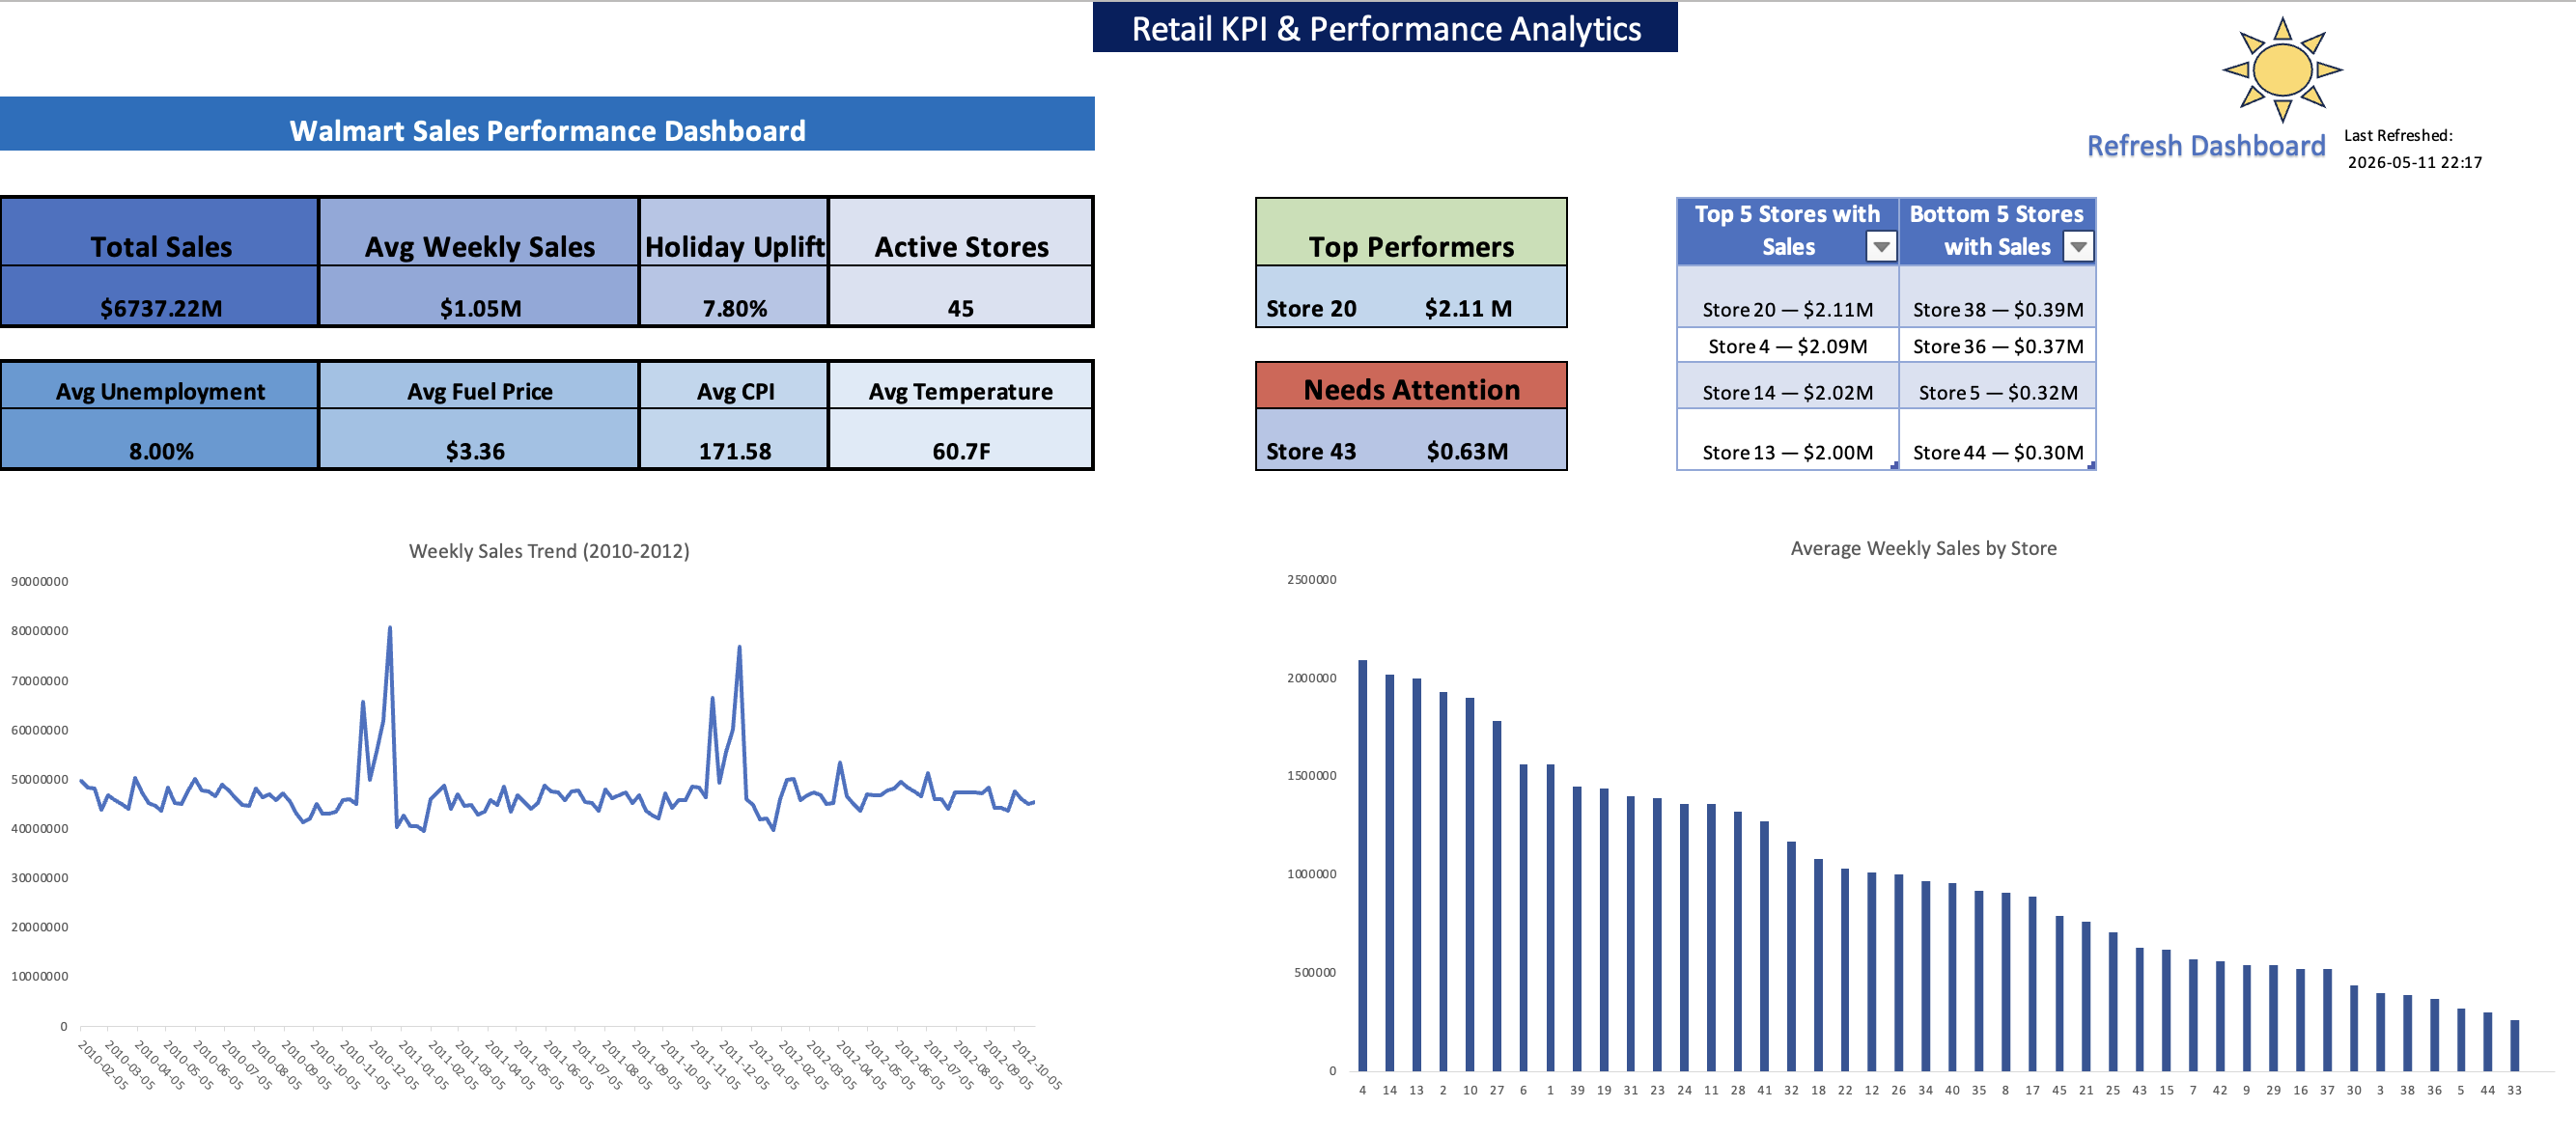

Layout of this report page (visuals, bound fields, positions):
{"tool":"tableau","page":{"name":"Dashboard 1","canvas":[1400,900],"ordinal":0},"visuals":[{"type":"text","box":[8,8,1384,80]},{"type":"worksheet","title":"KPI - Holiday Uplift ","mark":"Automatic","box":[1019,90,181,133]},{"type":"worksheet","title":"KPI - Active Stores","mark":"Automatic","box":[695,91,209,122]},{"type":"worksheet","title":"KPI - Average Weekly Sales","mark":"Automatic","box":[362,92,208,84]},{"type":"worksheet","title":"KPI - Total Sales","mark":"Automatic","box":[71,93,268,195]},{"type":"worksheet","title":"Average Weekly Sales by Store","mark":"Automatic","rows":["Weekly_Sales"],"cols":["Store"],"box":[715,196,636,554]},{"type":"worksheet","title":"Weekly Sales Trend","mark":"Automatic","rows":["Weekly_Sales"],"cols":["Date"],"box":[43,200,634,551]},{"type":"filter","title":"Weekly Sales Trend","param":"[federated.1utxvs30oo866m10m0n9e1h6uge1].[yr:Date:ok]","box":[502,739,194,52]},{"type":"text","box":[63,765,227,52]}]}

Visuals, with their boxes on the page's 1400x900 design canvas (x1, y1, x2, y2). These are canvas units, not pixel positions in the 2576x1135 screenshot, which may show the page scaled, cropped or inside an application window:
text: select_region(8, 8, 1392, 88)
"KPI - Holiday Uplift " worksheet: select_region(1019, 90, 1200, 223)
"KPI - Active Stores" worksheet: select_region(695, 91, 904, 213)
"KPI - Average Weekly Sales" worksheet: select_region(362, 92, 570, 176)
"KPI - Total Sales" worksheet: select_region(71, 93, 339, 288)
"Average Weekly Sales by Store" worksheet: select_region(715, 196, 1351, 750)
"Weekly Sales Trend" worksheet: select_region(43, 200, 677, 751)
"Weekly Sales Trend" filter: select_region(502, 739, 696, 791)
text: select_region(63, 765, 290, 817)
